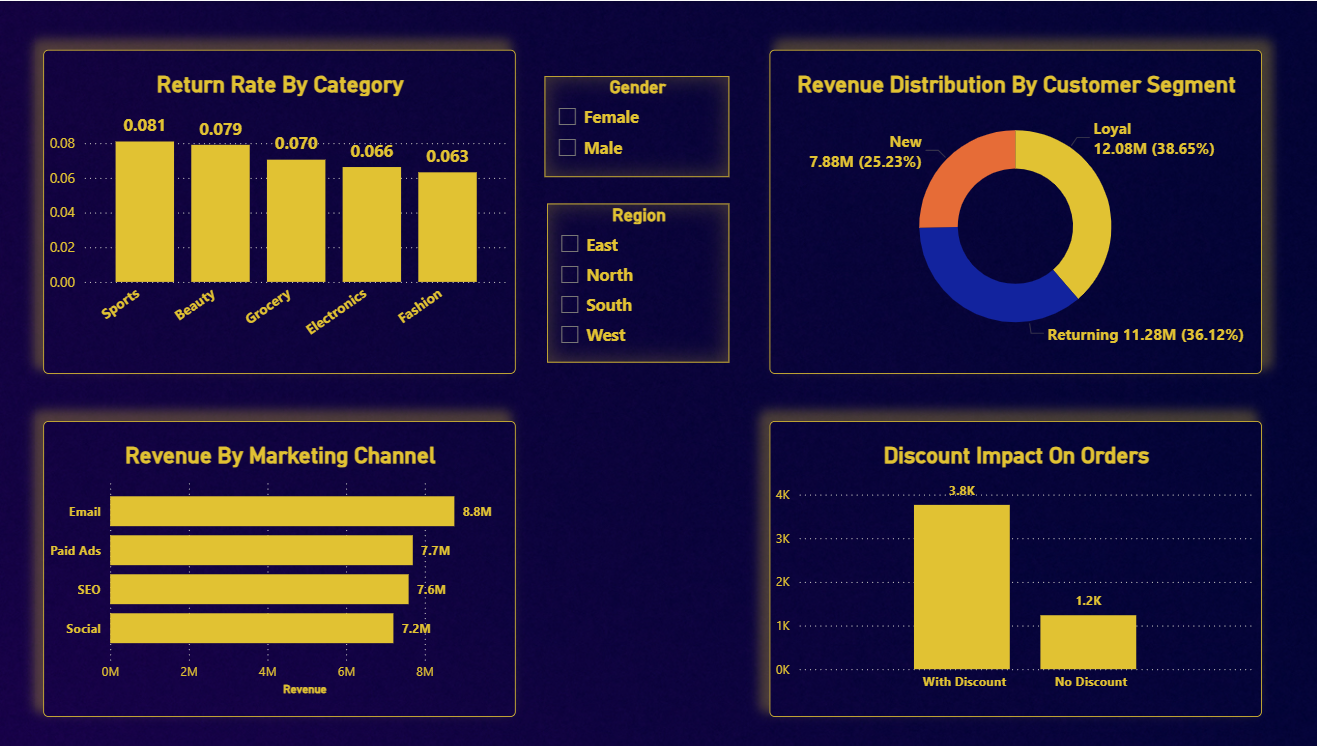

The page's visual inventory and layout, read from the dashboard file:
{"tool":"powerbi","page":{"name":"Page 2","canvas":[1280,720],"ordinal":1},"visuals":[{"type":"clusteredColumnChart","title":"Return Rate By Category","fields":{"Category":["ecommerce.category"],"Y":["ecommerce.return rate"]},"box":[44.6,47.1,456,312.5],"z":1},{"type":"donutChart","title":"Revenue Distribution By  Customer Segment","fields":{"Category":["ecommerce.customer_segment"],"Y":["Sum(ecommerce.total_revenue)"]},"box":[745.6,47.1,475.3,312.5],"z":2},{"type":"clusteredBarChart","title":"Revenue By Marketing Channel","fields":{"Y":["Sum(ecommerce.total_revenue)"],"Category":["ecommerce.marketing_channel"]},"box":[44.6,405.4,456,285.9],"z":3},{"type":"clusteredColumnChart","title":"Discount Impact On Orders","fields":{"Y":["CountNonNull(ecommerce.order_id)"],"Category":["ecommerce.discount_applied_text"]},"box":[745.6,405.4,475.3,285.9],"z":4},{"type":"slicer","title":"Gender","fields":{"Values":["ecommerce.gender"]},"box":[528.4,72.4,178.6,97.7],"z":5},{"type":"slicer","title":"Region","fields":{"Values":["ecommerce.region"]},"box":[530.8,195.4,176.1,153.2],"z":6}]}

Visuals, with their boxes in screenshot pixels (x1, y1, x2, y2), scaled from the page's 1280x720 canvas onto the 1317x746 screenshot:
"Return Rate By Category" clusteredColumnChart: crop(46, 49, 515, 373)
"Revenue Distribution By  Customer Segment" donutChart: crop(767, 49, 1256, 373)
"Revenue By Marketing Channel" clusteredBarChart: crop(46, 420, 515, 716)
"Discount Impact On Orders" clusteredColumnChart: crop(767, 420, 1256, 716)
"Gender" slicer: crop(544, 75, 727, 176)
"Region" slicer: crop(546, 202, 727, 361)
